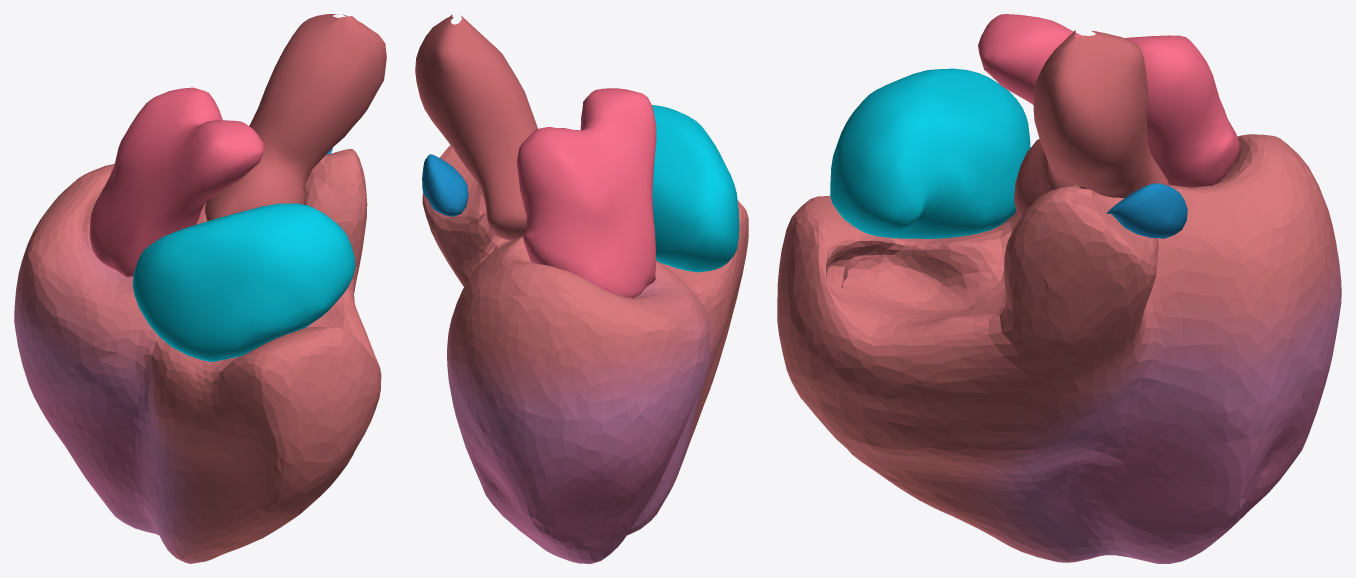
The model's file is frame_54.glb.
The picture shows the model from 3 angles, left to right: view 1: azimuth 30°, elevation 25°; view 2: azimuth 150°, elevation 25°; view 3: azimuth 270°, elevation 25°; orthographic projection. The views are drawn at different scales.
Visible parts, largest first — view 1: Renderer Node; view 2: Renderer Node; view 3: Renderer Node.
Part boxes in pixels (left/top/right/bottom): Renderer Node: left=14, top=14, right=386, bottom=563; Renderer Node: left=415, top=14, right=748, bottom=563; Renderer Node: left=777, top=14, right=1341, bottom=563.
Size of the model in its own units: 103 by 157 by 128.
